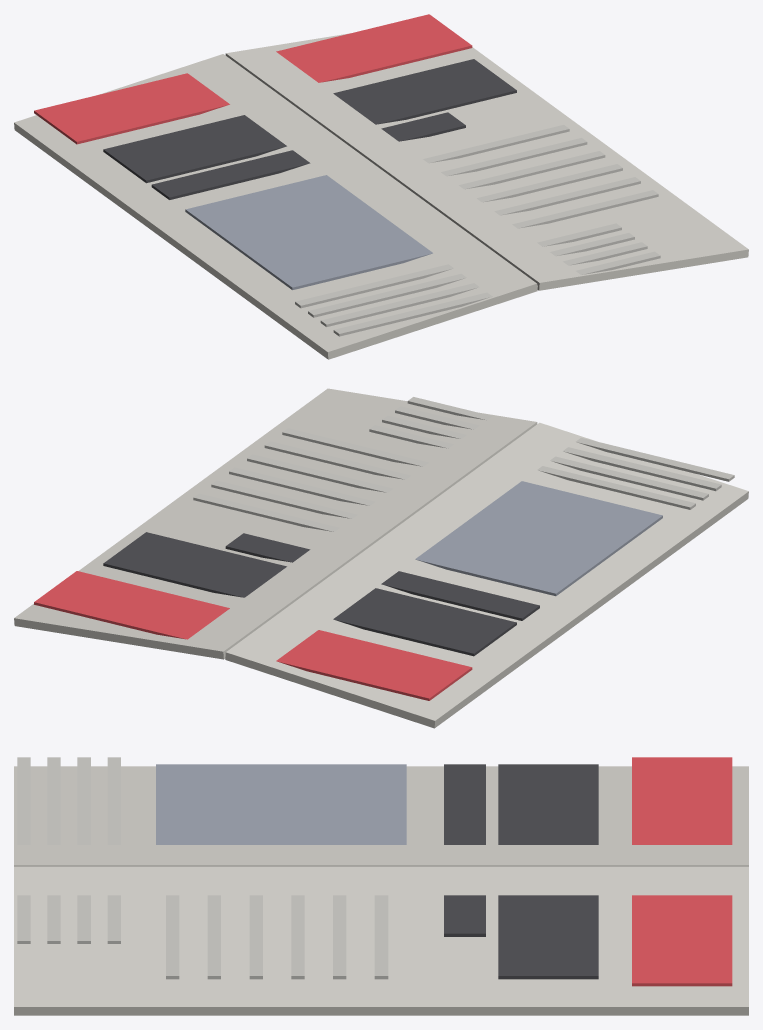
The model's file is newspaper.glb.
3 views of the same model, one above another, from view 1: azimuth 30°, elevation 25°; view 2: azimuth 150°, elevation 25°; view 3: azimuth 270°, elevation 25° (orthographic). The views are drawn at different scales.
Parts seen in each view (by area): view 1: Newspaper; view 2: Newspaper; view 3: Newspaper.
Part boxes in pixels (box(x1,y1,x2,y2)): Newspaper: box(14, 14, 748, 359); Newspaper: box(14, 388, 748, 728); Newspaper: box(14, 757, 748, 1015).
Size of the model in its own units: 0.3409 by 0.0196 by 0.44.
